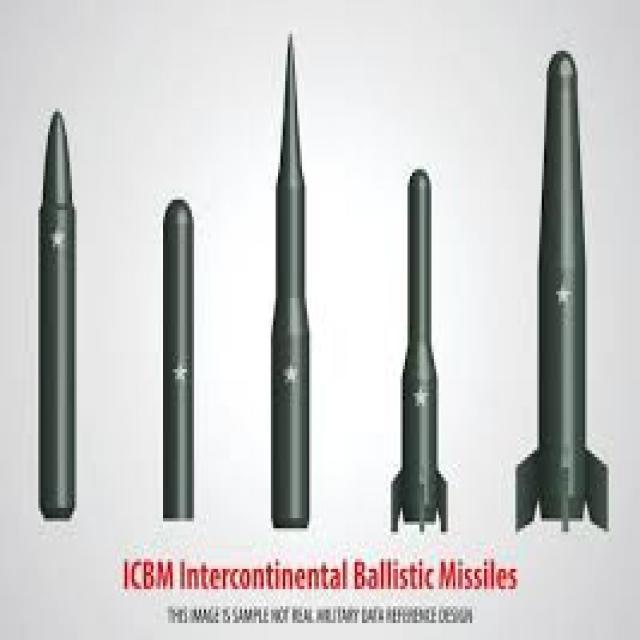Missile: (501, 33, 624, 542), (371, 127, 462, 544), (256, 12, 317, 533), (31, 103, 82, 527), (150, 187, 210, 533)
